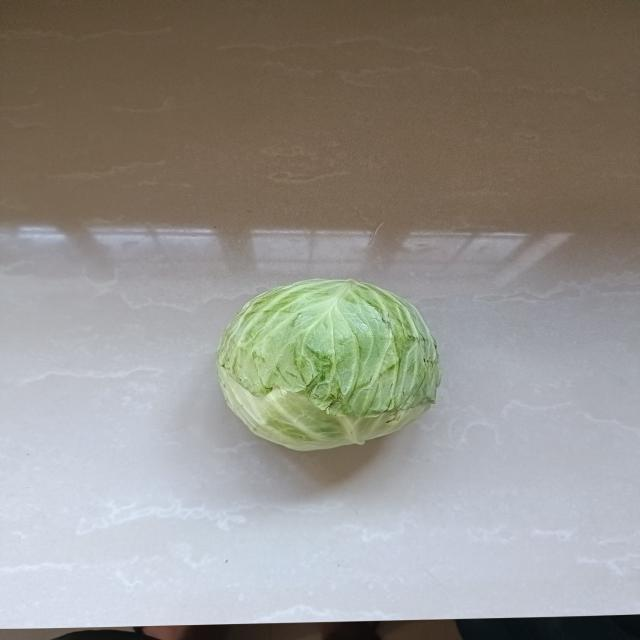cabbage: (212, 273, 446, 458)
